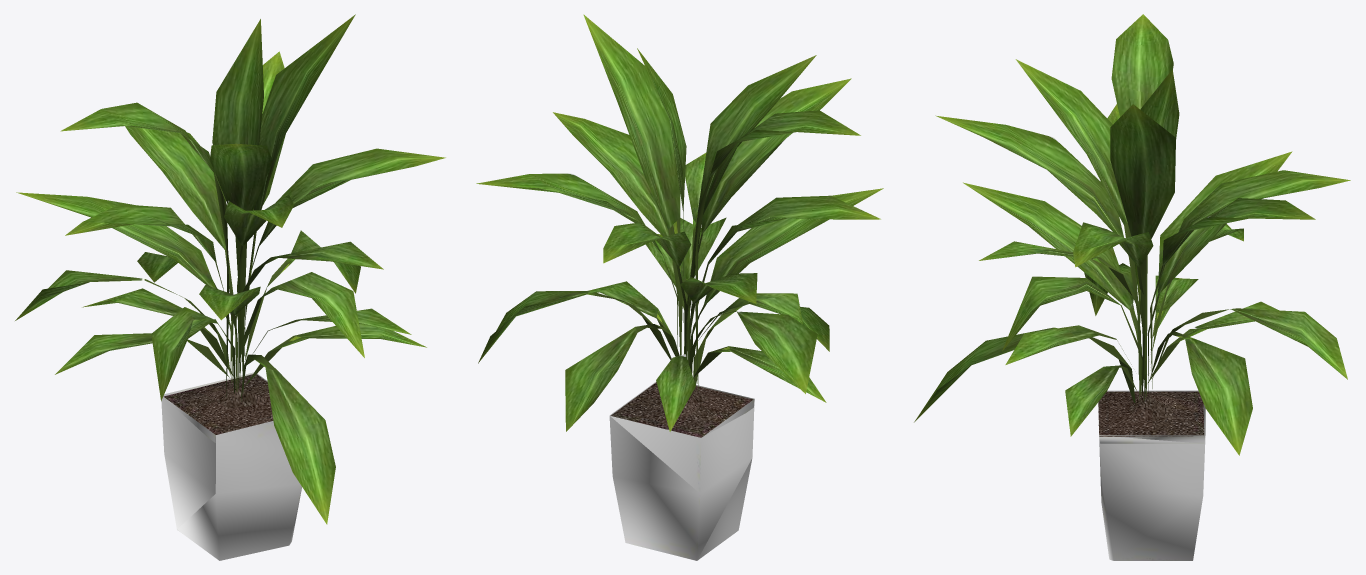
The model's file is Plant0004.obj.
3 views of the same model, side by side, from view 1: azimuth 30°, elevation 25°; view 2: azimuth 150°, elevation 25°; view 3: azimuth 270°, elevation 25° (orthographic). The views are drawn at different scales.
Bounding box in the file's own units: 0.36 × 0.481 × 0.387.
1 material, 1 textured.
